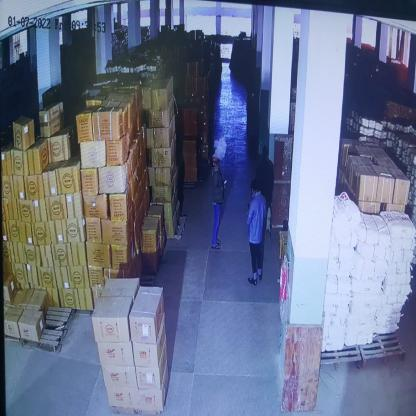smoke: (214, 132, 228, 162)
